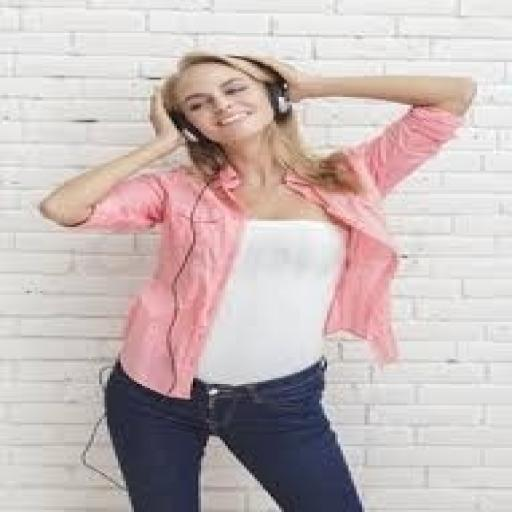listening_to_music: (35, 49, 482, 510)
